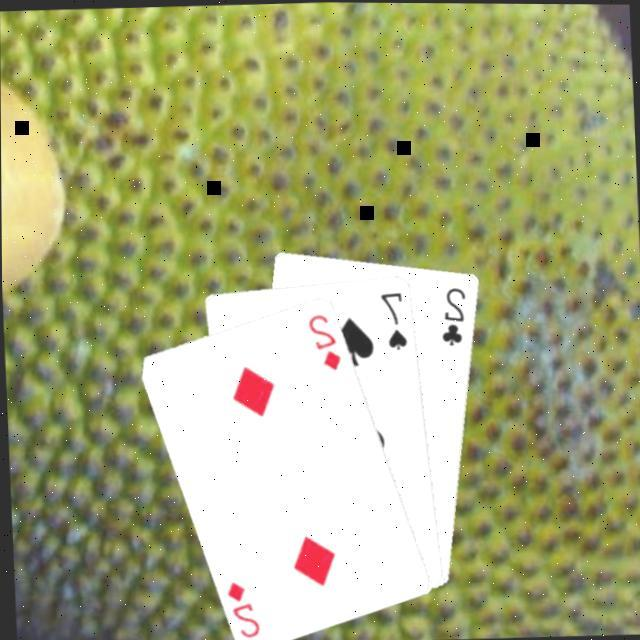2C: (438, 284, 472, 349)
2D: (222, 577, 262, 640), (306, 310, 344, 376)
7S: (378, 289, 411, 354)
